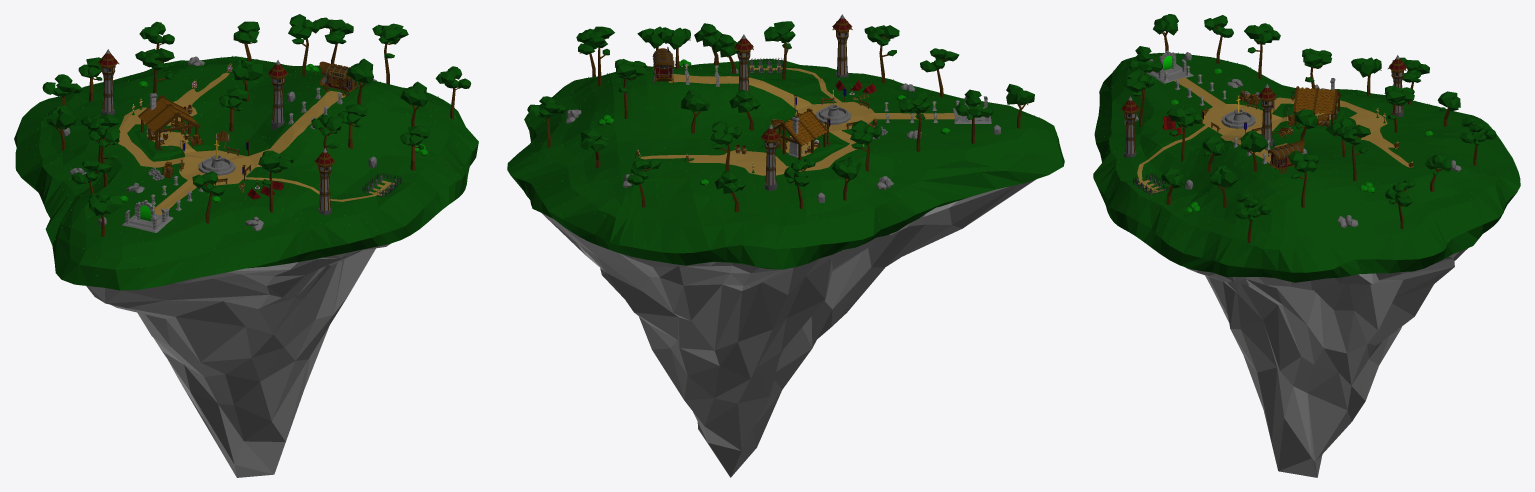
File: TraderIsland.fbx
3 renders of one model, left to right at view 1: azimuth 30°, elevation 25°; view 2: azimuth 150°, elevation 25°; view 3: azimuth 270°, elevation 25°, orthographic. The views are drawn at different scales.
Parts seen in each view (by area): view 1: Island; view 2: Island; view 3: Island.
Boxes of the visible parts, left/top/right/bottom form: Island: left=14, top=14, right=478, bottom=477; Island: left=507, top=14, right=1064, bottom=477; Island: left=1093, top=14, right=1520, bottom=477.
Bounding box in the file's own units: 8523 × 7542 × 7292.
